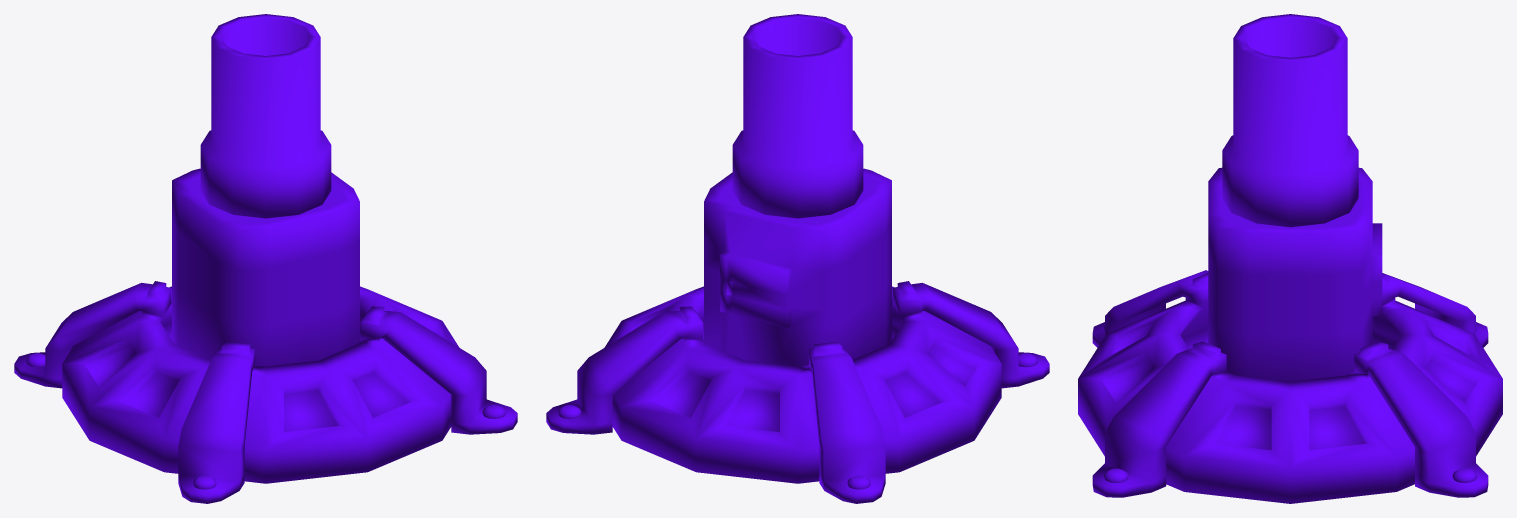
Rendered from 3Turret_mine.fbx.
3 renders of one model, left to right at view 1: azimuth 30°, elevation 25°; view 2: azimuth 150°, elevation 25°; view 3: azimuth 270°, elevation 25°, orthographic. The views are drawn at different scales.
Parts seen in each view (by area): view 1: 3turret_mine1, 3turret_mine3, 3turret_mine4, 3turret_mine2; view 2: 3turret_mine1, 3turret_mine3, 3turret_mine4, 3turret_mine2; view 3: 3turret_mine1, 3turret_mine3, 3turret_mine4, 3turret_mine2.
Part boxes in pixels (x1,y1,x2,y2): 3turret_mine1: (14,281,517,503); 3turret_mine3: (172,168,359,366); 3turret_mine4: (200,14,331,218); 3turret_mine2: (26,353,505,489); 3turret_mine1: (546,281,1049,503); 3turret_mine3: (704,168,891,366); 3turret_mine4: (732,14,863,218); 3turret_mine2: (558,353,1037,489); 3turret_mine1: (1078,270,1502,503); 3turret_mine3: (1208,167,1382,381); 3turret_mine4: (1222,14,1358,227); 3turret_mine2: (1104,326,1476,482).
Size of the model in its own units: 18.23 by 17.8 by 18.23.
